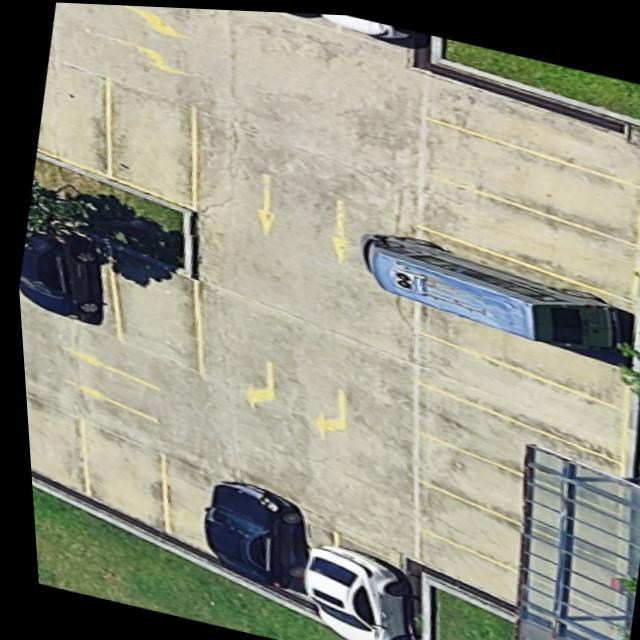car: (358, 230, 629, 359), (198, 479, 300, 590), (296, 542, 407, 640), (15, 231, 101, 323)
freeslot: (401, 158, 640, 304), (405, 105, 640, 246), (404, 320, 627, 462), (401, 420, 619, 565), (401, 469, 616, 615), (403, 372, 621, 513), (402, 280, 628, 411), (412, 65, 640, 187), (400, 516, 616, 640), (100, 242, 208, 380), (101, 70, 204, 213), (72, 412, 164, 538), (151, 446, 226, 565), (20, 387, 87, 500)
